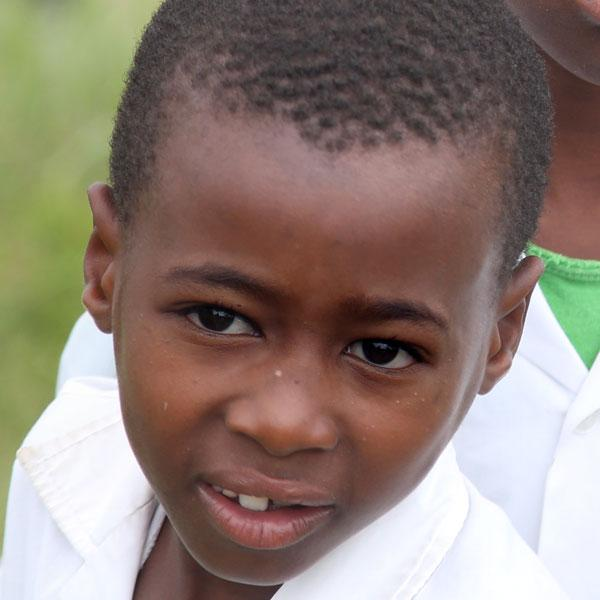Eyes: (162, 288, 278, 353), (330, 326, 442, 388)
